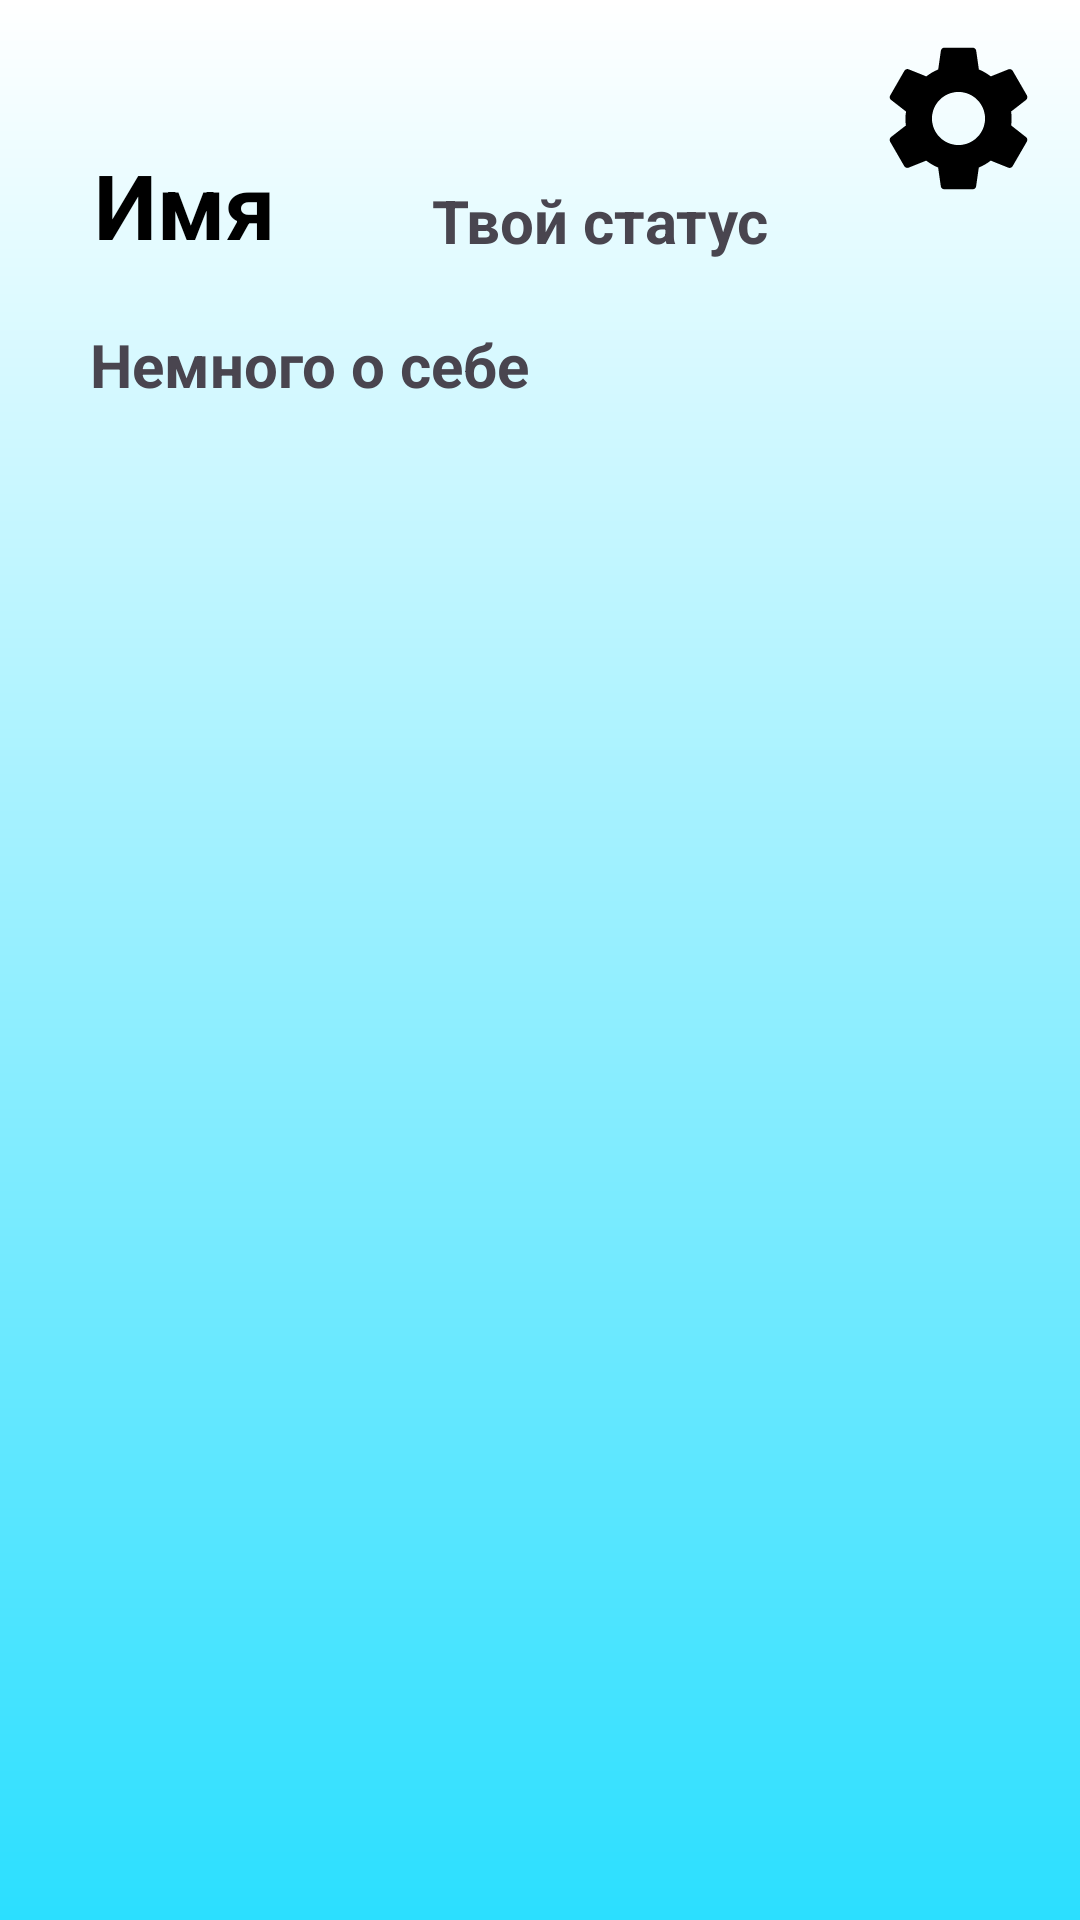

Locate icon controls on the screen. Image size 1080×1920, boxes as box=[x1, y1, x2, y2].
settings: box=[889, 47, 1028, 190]
